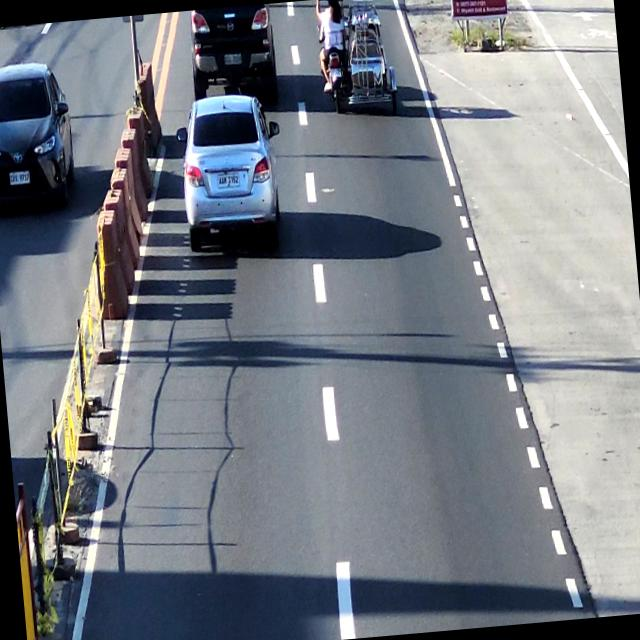Car: (176, 91, 281, 252), (314, 0, 400, 119), (185, 3, 278, 97)
License-Plate: (214, 170, 240, 188), (222, 52, 244, 66), (326, 66, 344, 79)
